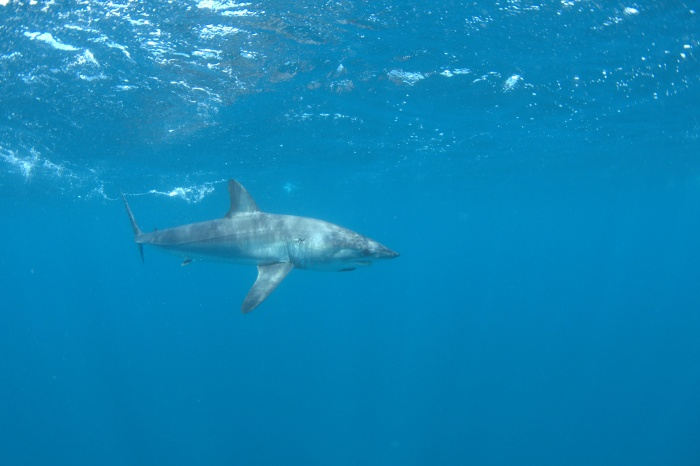Mako: (108, 179, 408, 323)
